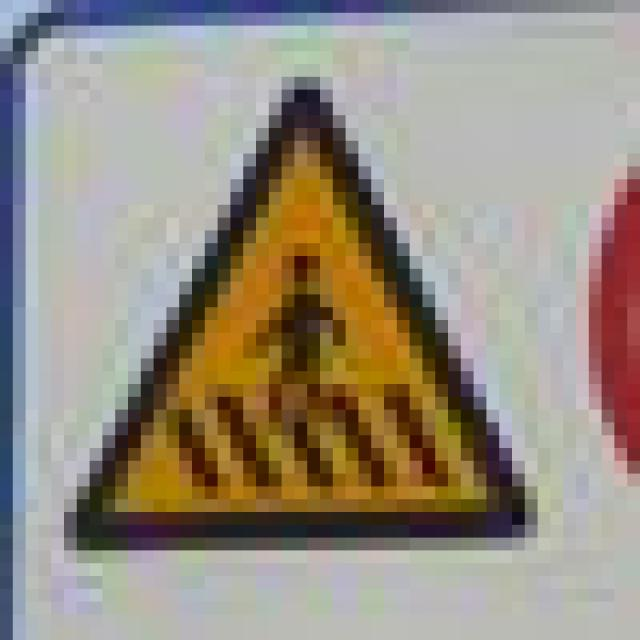PEDESTRIAN_CROSSING: (75, 71, 536, 547)
